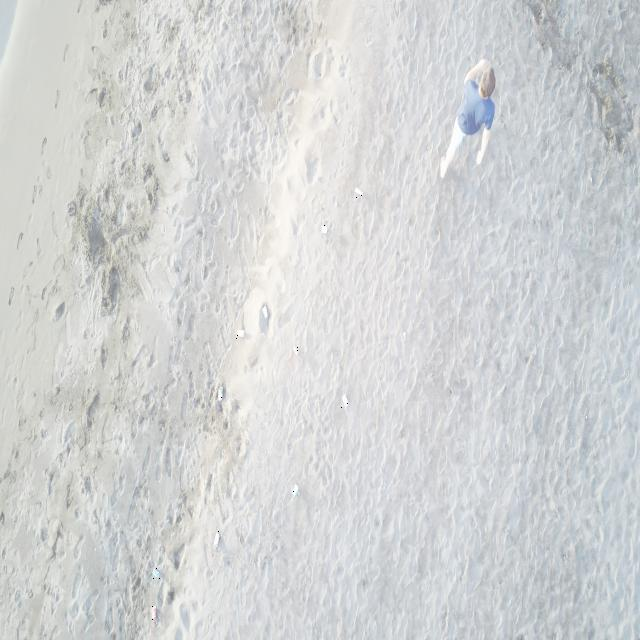tin-and-aluminum-cans: (341, 394, 349, 409), (354, 186, 363, 198), (292, 344, 300, 357), (214, 531, 220, 548), (236, 329, 246, 339), (262, 305, 269, 319), (151, 606, 157, 622), (154, 567, 162, 579), (292, 484, 299, 497), (218, 386, 223, 402), (321, 224, 327, 235)
